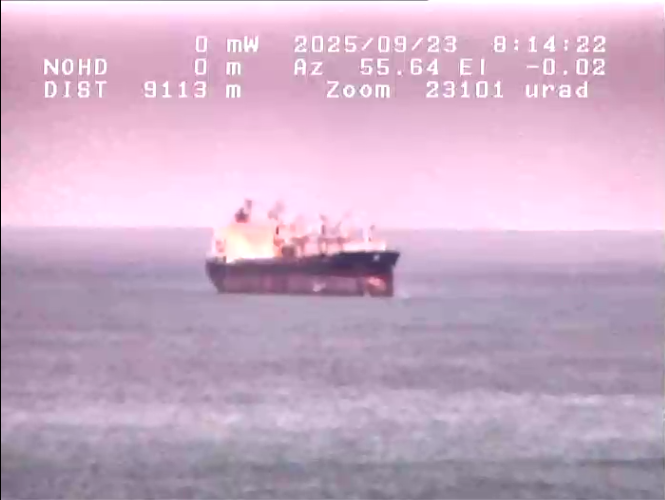TANKER: (192, 190, 419, 306)
